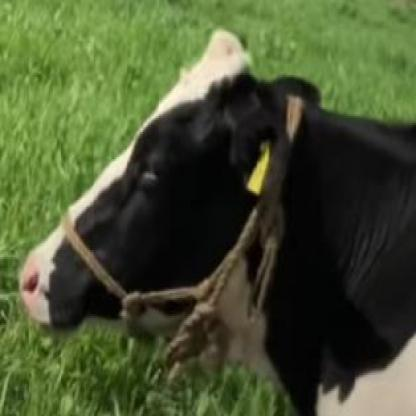cow: (20, 60, 416, 416)
